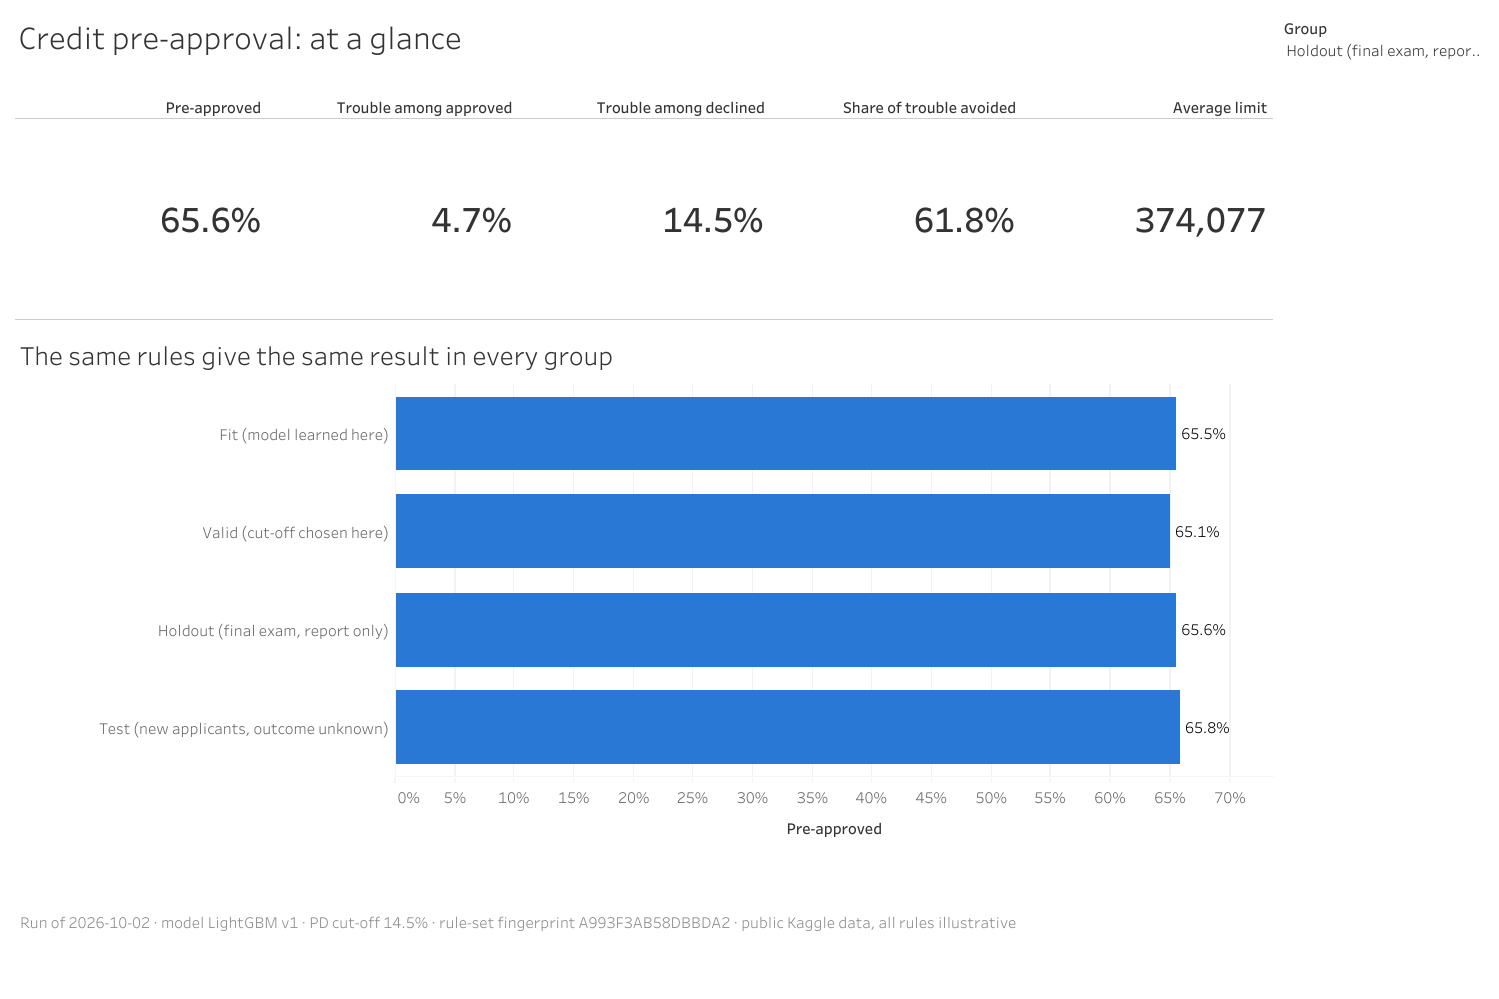

What the dashboard file says about the page in this screenshot:
{"tool":"tableau","page":{"name":"1 - At a glance","canvas":[1200,800],"ordinal":0},"visuals":[{"type":"title","box":[8,8,1015,50]},{"type":"parameter","param":"[Parameters].[Parameter 0193564081881089]","box":[1023,8,169,56]},{"type":"worksheet","title":"KPI tiles","mark":"Automatic","box":[8,58,1015,208]},{"type":"worksheet","title":"Approval by group","mark":"Automatic","rows":["split_label"],"cols":["approval_rate"],"box":[8,266,1015,417]},{"type":"worksheet","title":"Run footer","mark":"Text","box":[8,683,1015,109]}]}

Visuals, with their boxes in screenshot pixels (x1, y1, x2, y2), scaled from the page's 1200x800 canvas onto the 1499x999 screenshot:
title: (10,10,1278,72)
parameter: (1278,10,1489,80)
"KPI tiles" worksheet: (10,72,1278,332)
"Approval by group" worksheet: (10,332,1278,853)
"Run footer" worksheet (Text marks): (10,853,1278,989)
